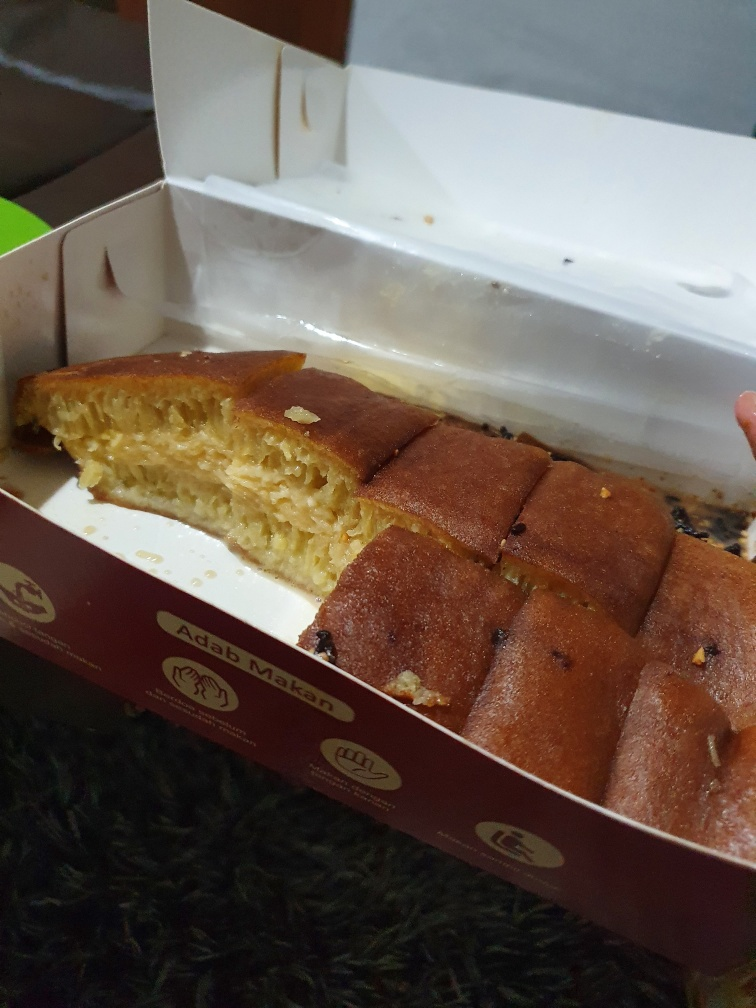martabak manis: (19, 317, 253, 542), (296, 521, 498, 760), (498, 412, 667, 650), (477, 578, 623, 832), (336, 390, 529, 582), (231, 350, 365, 579), (613, 655, 756, 853), (641, 509, 756, 692)
